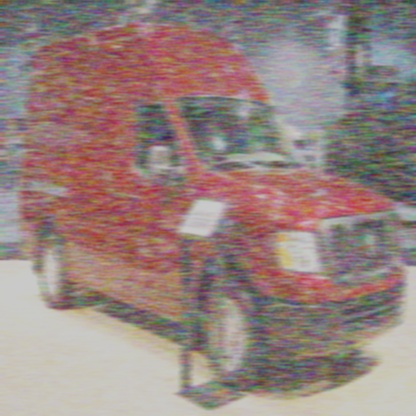Vehicle: (19, 18, 405, 393)
